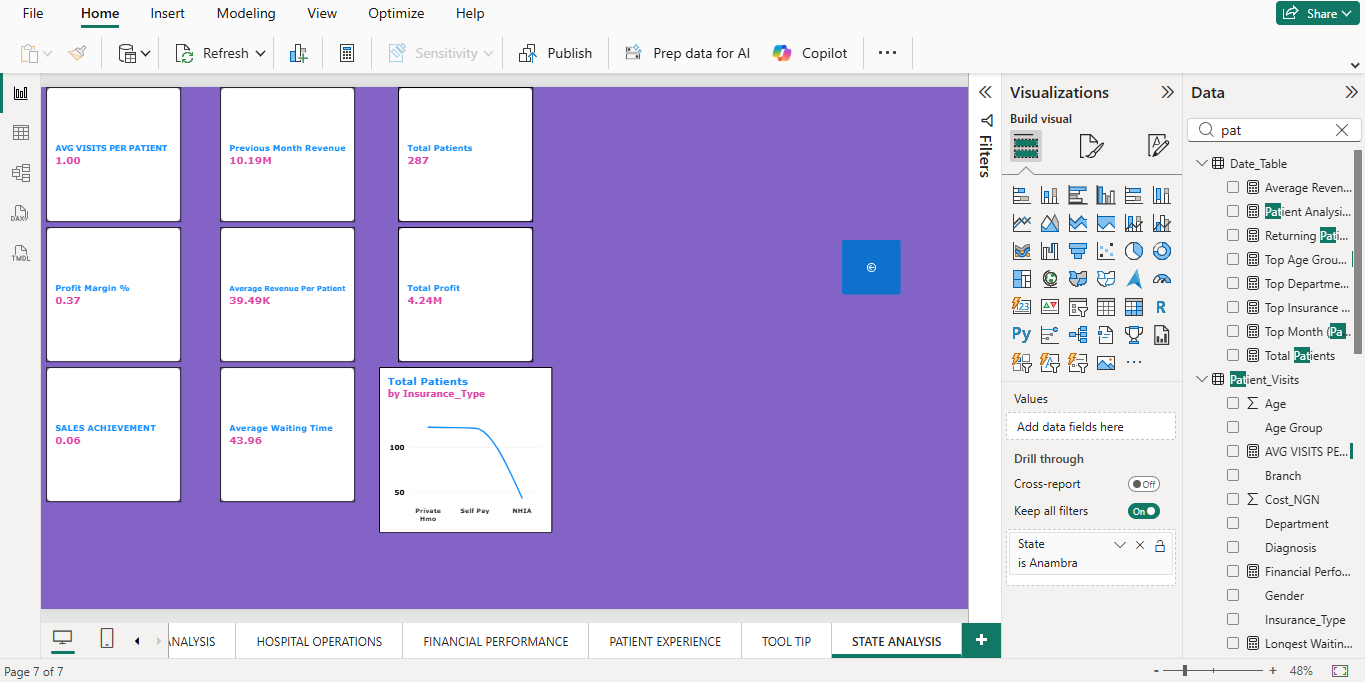

What the dashboard file says about the page in this screenshot:
{"tool":"powerbi","page":{"name":"STATE ANALYSIS","canvas":[1920,1080],"ordinal":6},"visuals":[{"type":"cardVisual","fields":{"Data":["Patient_Visits.AVG VISITS PER PATIENT"]},"box":[10,0,280,280],"z":0},{"type":"cardVisual","fields":{"Data":["Patient_Visits.Profit Margin %"]},"box":[10,290,280,280],"z":1000},{"type":"cardVisual","fields":{"Data":["Patient_Visits.SALES ACHIEVEMENT"]},"box":[10,580,280,280],"z":2000},{"type":"cardVisual","fields":{"Data":["Patient_Visits.Previous Month Revenue"]},"box":[371.6,0,280,280],"z":3000},{"type":"cardVisual","fields":{"Data":["Date_Table.Average Revenue Per Patient"]},"box":[371.6,289,280,280],"z":4000},{"type":"cardVisual","fields":{"Data":["Date_Table.Average Waiting Time"]},"box":[371.6,580.1,280,280],"z":5000},{"type":"actionButton","box":[1659.6,316.2,121.8,113.5],"z":6000},{"type":"lineChart","fields":{"Category":["Patient_Visits.Insurance_Type"],"Y":["Date_Table.Total Patients"]},"box":[700.1,579.9,359.2,342.7],"z":7000},{"type":"cardVisual","fields":{"Data":["Date_Table.Total Patients"]},"box":[739.9,0,280,280],"z":8000},{"type":"cardVisual","fields":{"Data":["Date_Table.Total Profit"]},"box":[739.9,289.3,280,280],"z":9000}]}

Visuals, with their boxes on the page's 1920x1080 design canvas (x1, y1, x2, y2). These are canvas units, not pixel positions in the 1365x682 screenshot, which may show the page scaled, cropped or inside an application window:
cardVisual - Patient_Visits.AVG VISITS PER PATIENT: detection(10, 0, 290, 280)
cardVisual - Patient_Visits.Profit Margin %: detection(10, 290, 290, 570)
cardVisual - Patient_Visits.SALES ACHIEVEMENT: detection(10, 580, 290, 860)
cardVisual - Patient_Visits.Previous Month Revenue: detection(372, 0, 652, 280)
cardVisual - Date_Table.Average Revenue Per Patient: detection(372, 289, 652, 569)
cardVisual - Date_Table.Average Waiting Time: detection(372, 580, 652, 860)
actionButton: detection(1660, 316, 1781, 430)
lineChart - Patient_Visits.Insurance_Type x Date_Table.Total Patients: detection(700, 580, 1059, 923)
cardVisual - Date_Table.Total Patients: detection(740, 0, 1020, 280)
cardVisual - Date_Table.Total Profit: detection(740, 289, 1020, 569)
